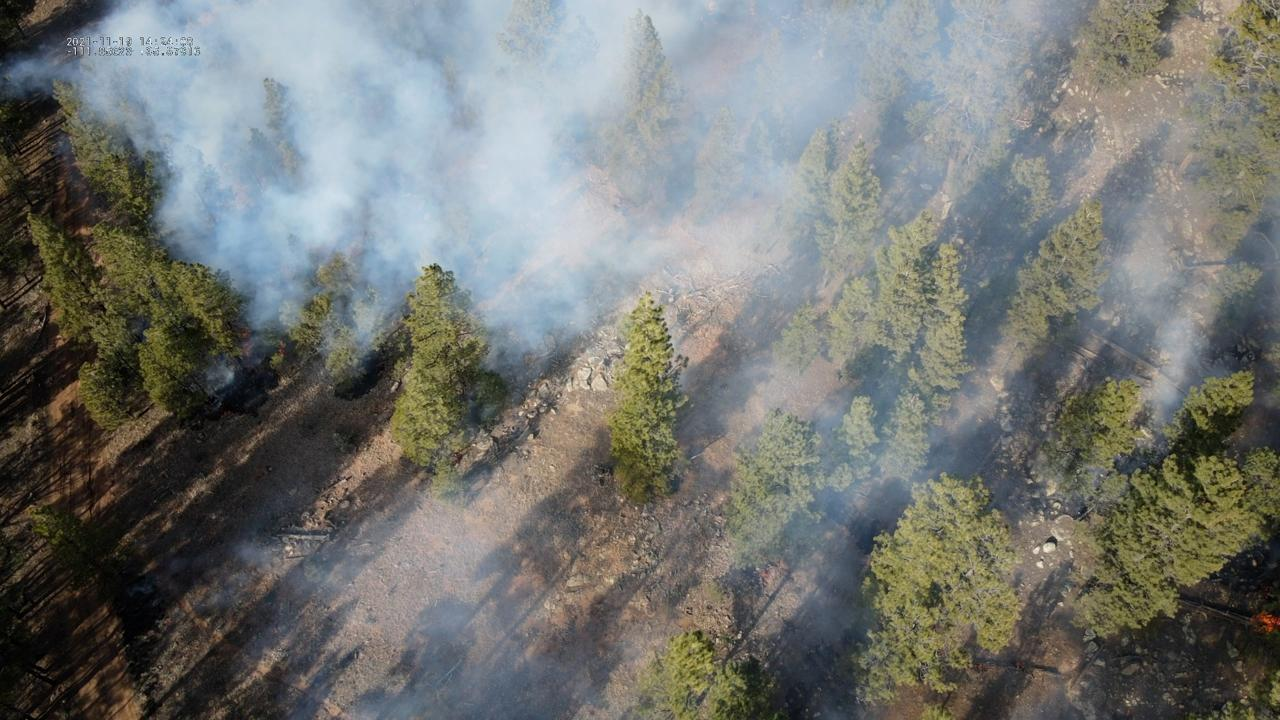fire: (1258, 606, 1280, 640), (238, 325, 254, 356), (275, 339, 288, 358), (757, 569, 771, 579)
smoke: (0, 0, 1230, 615), (228, 490, 624, 720), (1253, 194, 1280, 313)
